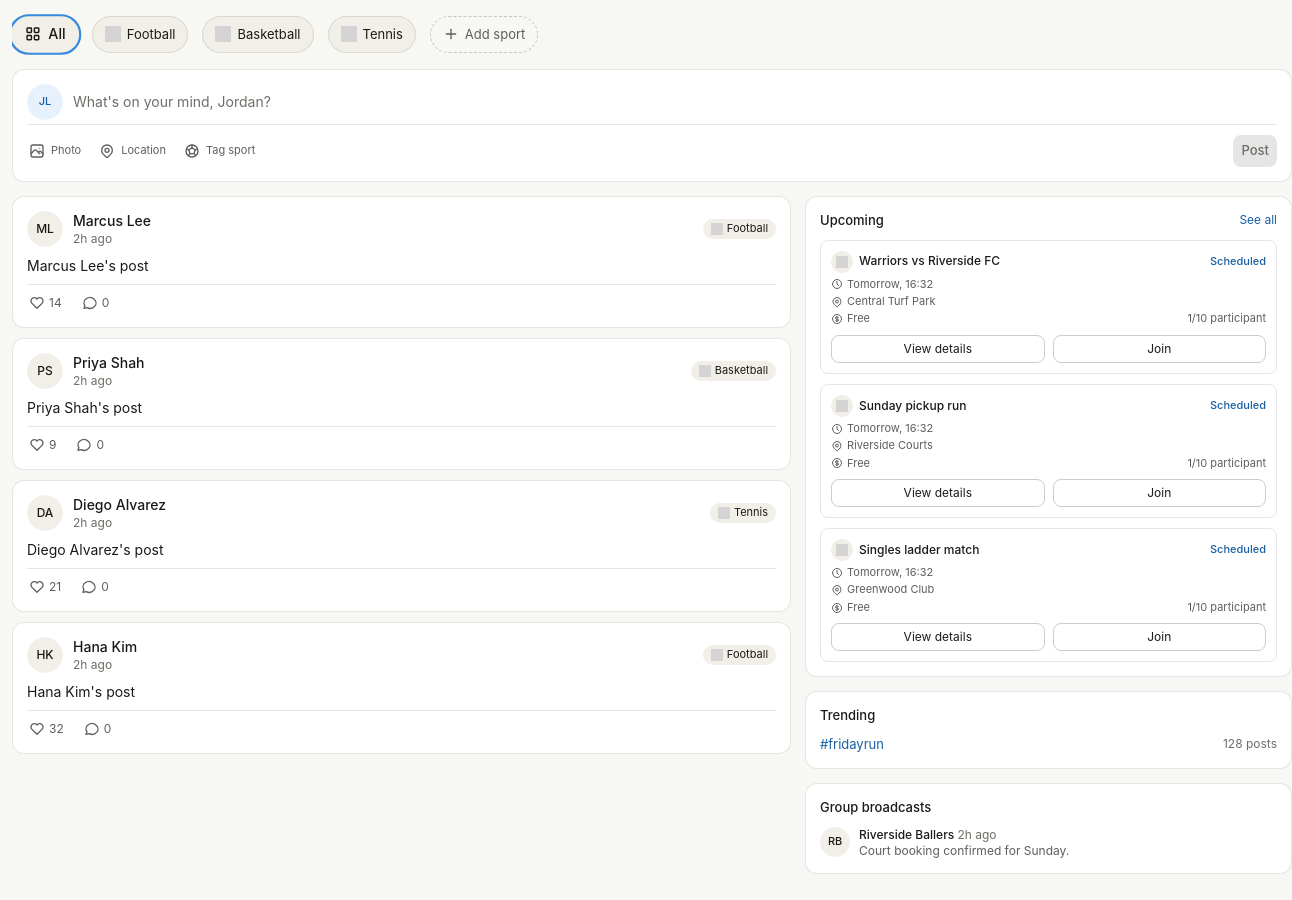
it: HomeFeedPage › sport selection filters feed and matches together; trending/broadcasts unaffected
The image size is (1292, 900).
Click the button "Basketball".
click(258, 34)  # box [202,16,314,53]
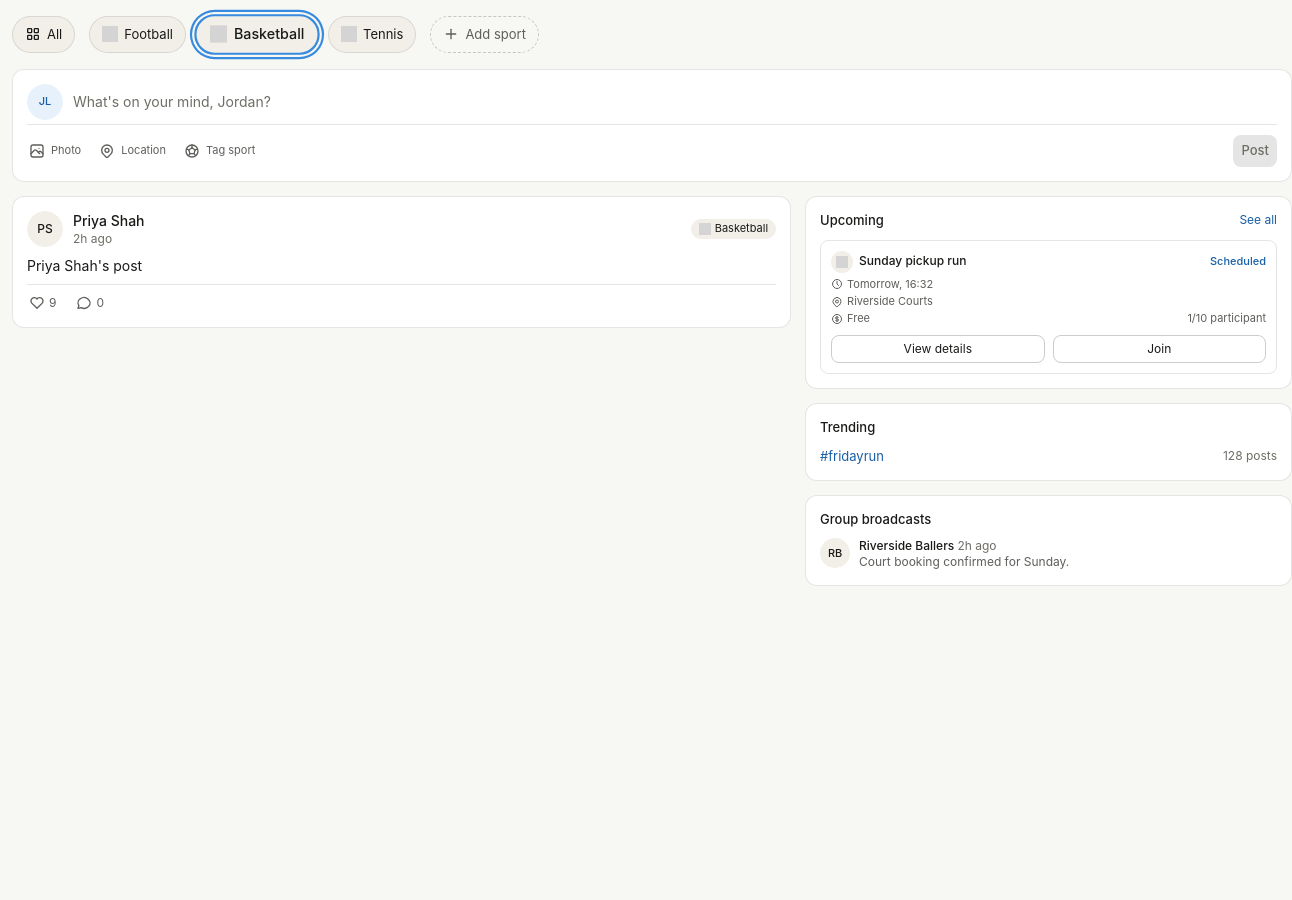
Check: the text "#fridayrun" is shown, box [820,447,884,466]
Check: the number of buttons "View details" is 1, box [831,335,1045,363]
Click the button "All".
click(44, 34)  # box [12,16,75,53]
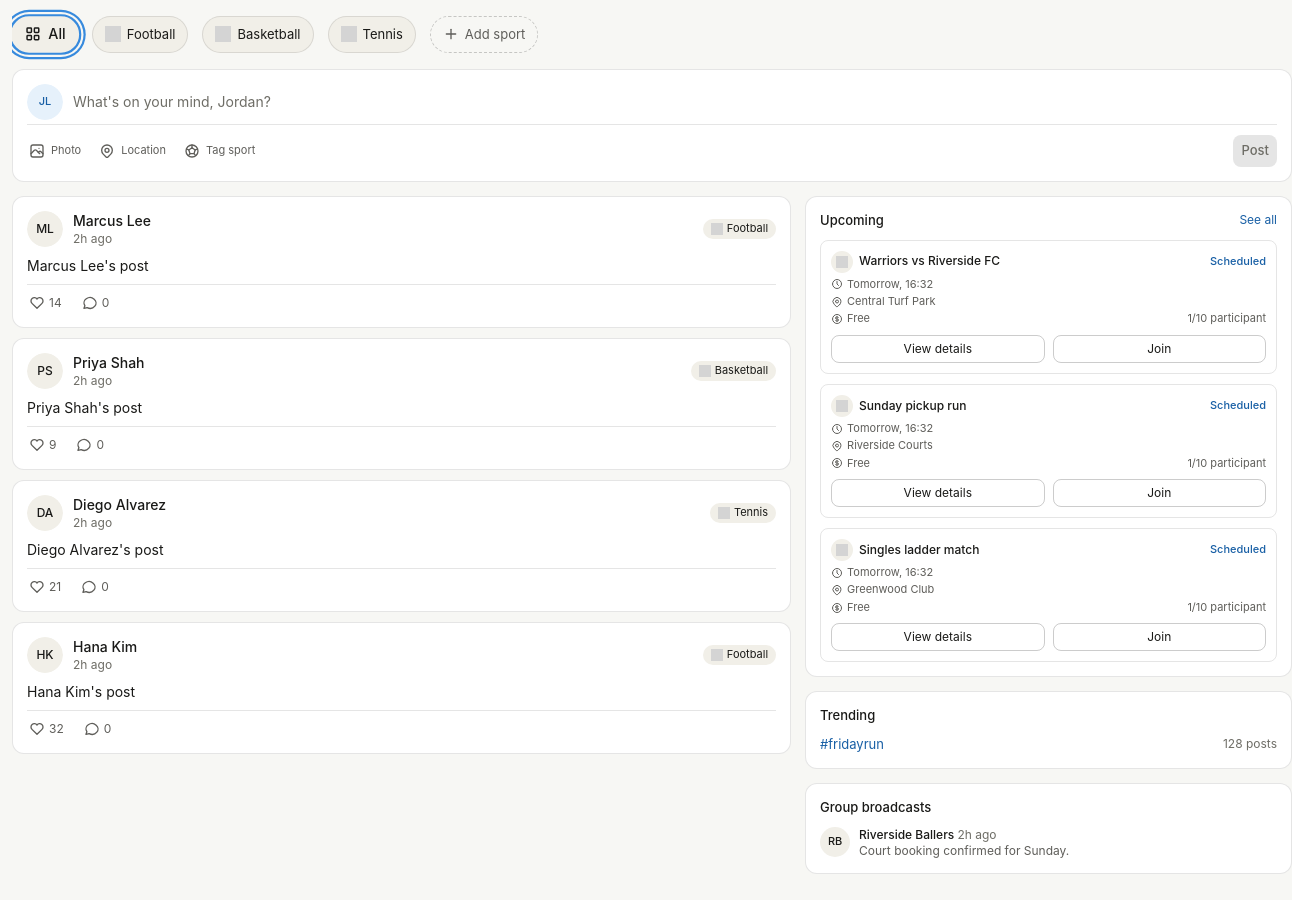
Check: the number of buttons "View details" is 3, box [831,335,1045,363]; [831,479,1045,507]; [831,623,1045,651]
